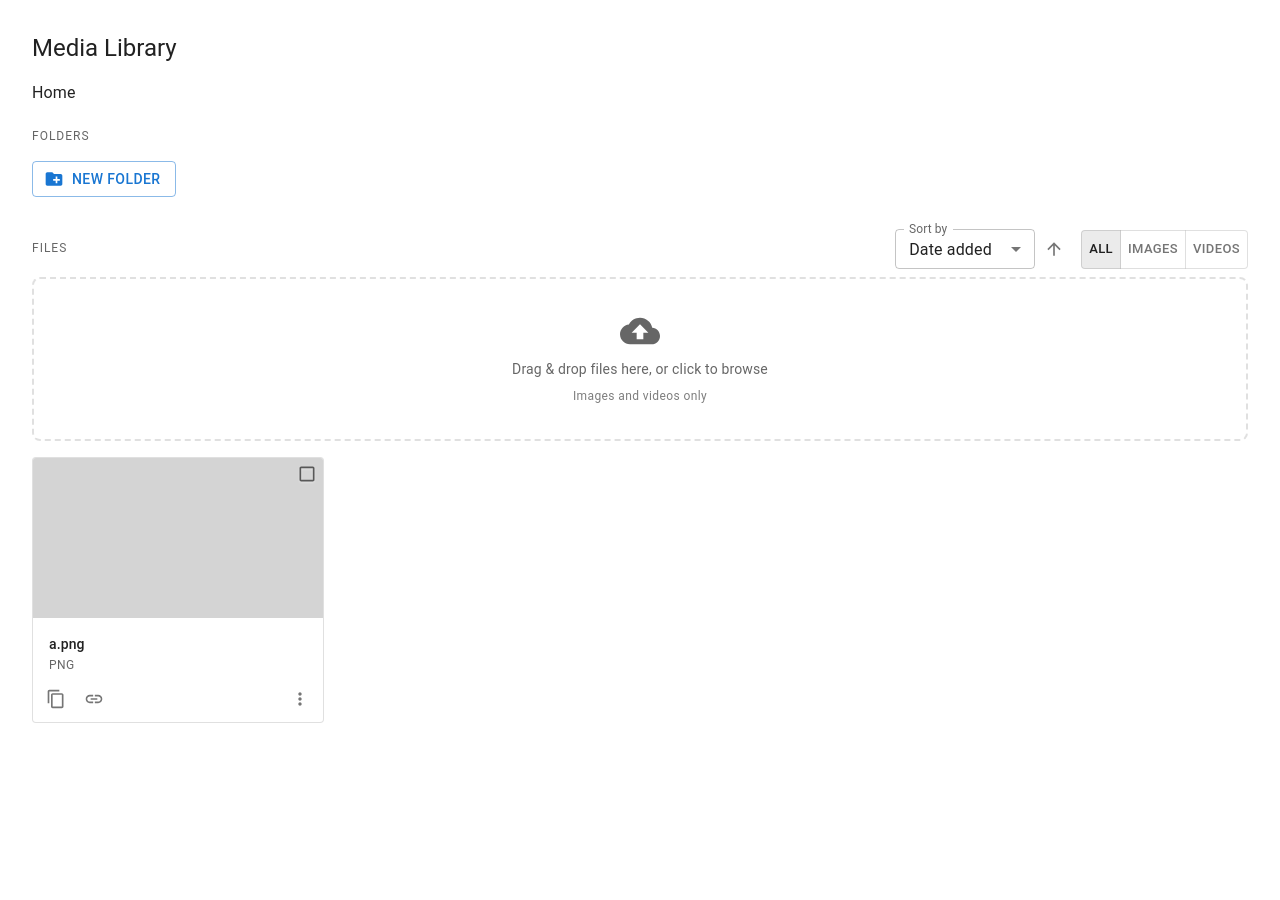
Test: MediaPage › removes a deleted file in place without re-listing the folder
Expected: the heading "a.png" is shown, 49,636 -> 85,652
What coordinates should you click on to do the following:
click the button named "More actions"
I would click on:
 (300, 699)
Its box is 285,684 -> 315,714.
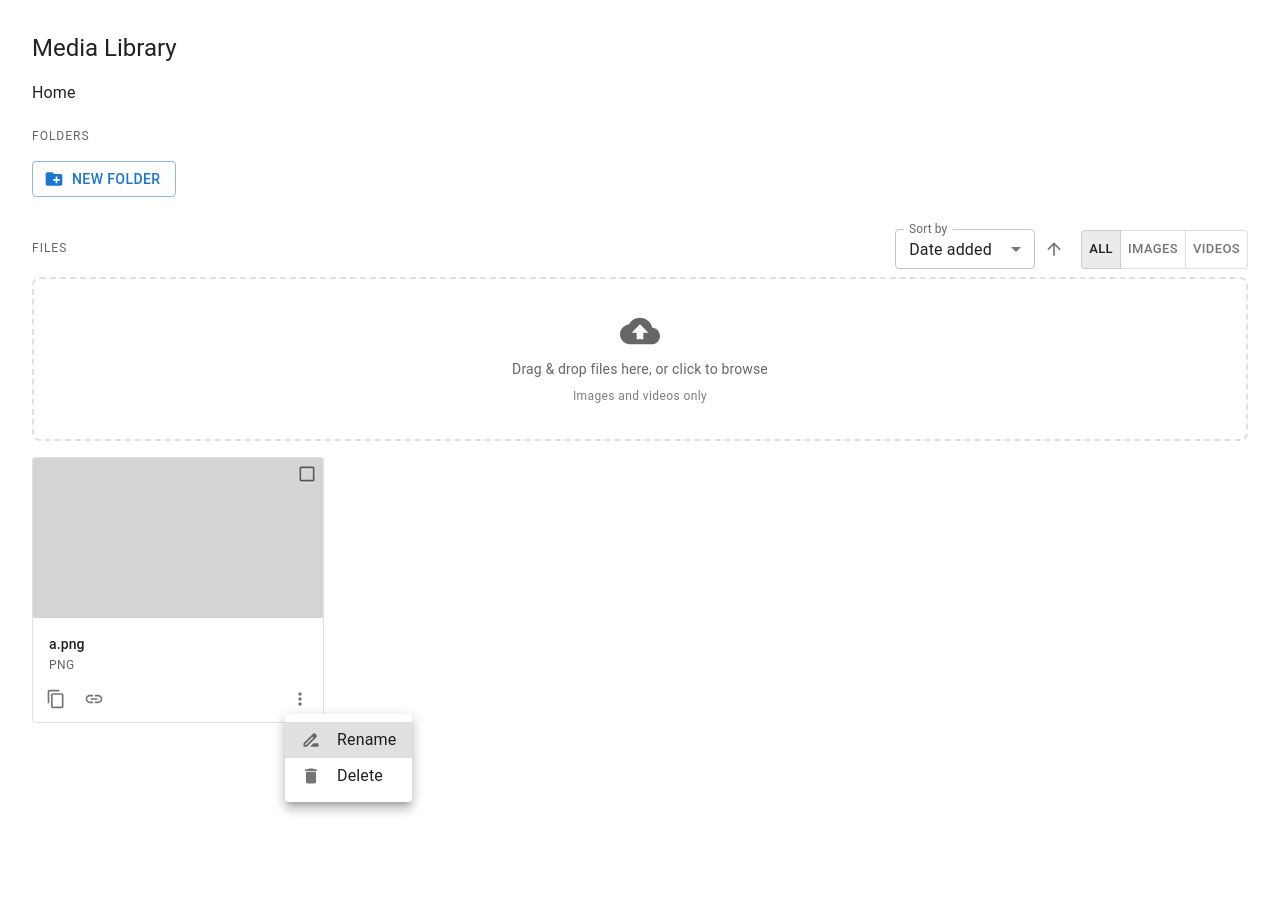
What coordinates should you click on to do the following:
click the menu item "Delete"
I would click on:
 (342, 776)
Its box is 301,766 -> 383,786.
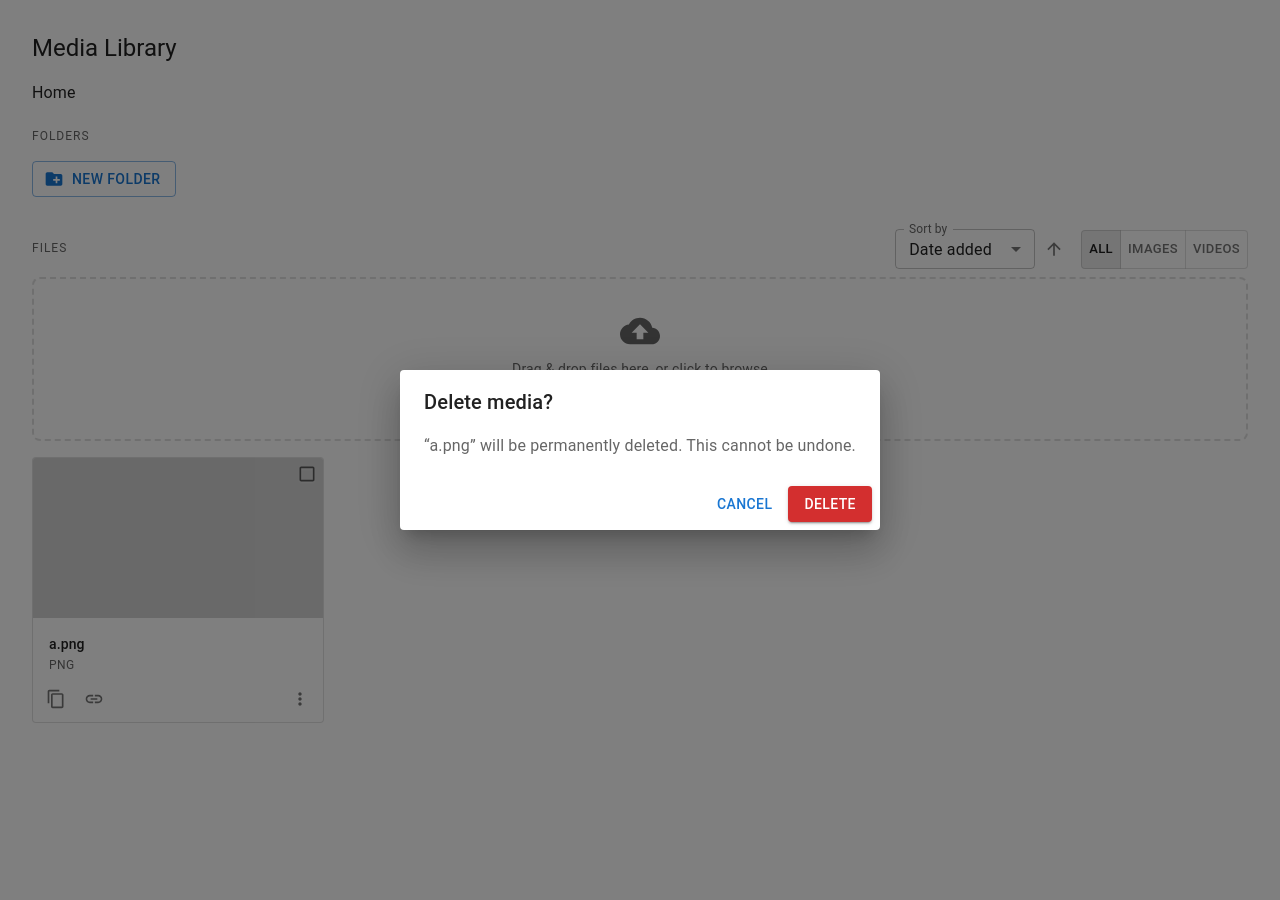
What coordinates should you click on to do the following:
click the button "Delete"
I would click on:
 (830, 504)
Its box is 788,486 -> 872,522.
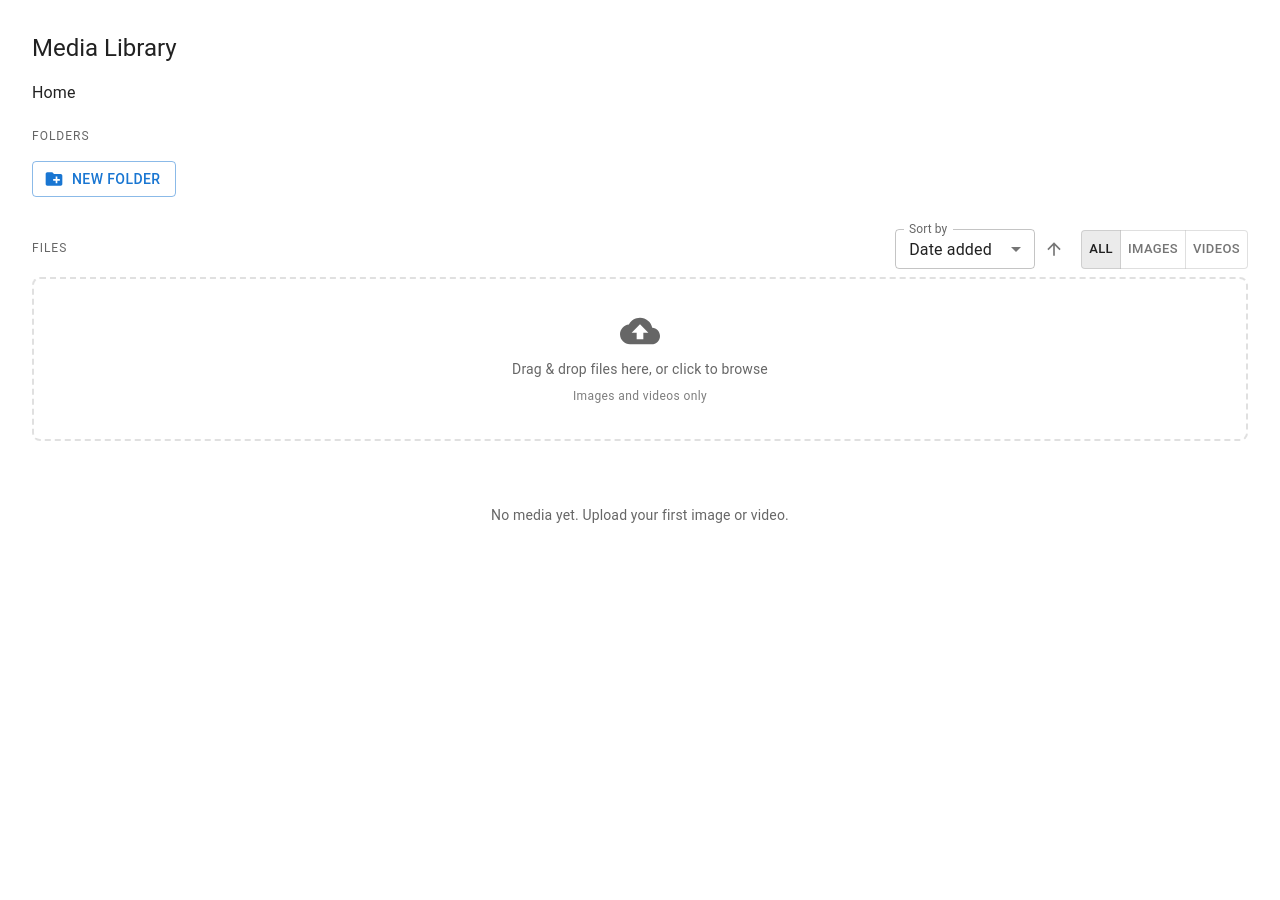
Expected: the heading "a.png" is gone
